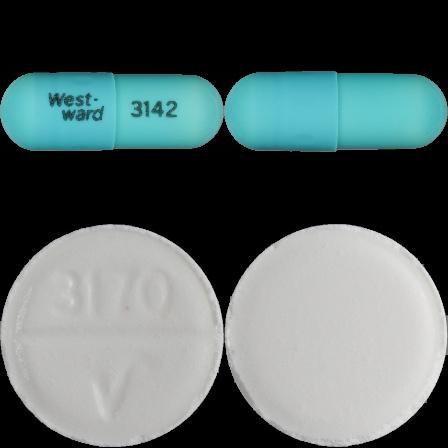55289-107: (0, 0, 224, 224)
